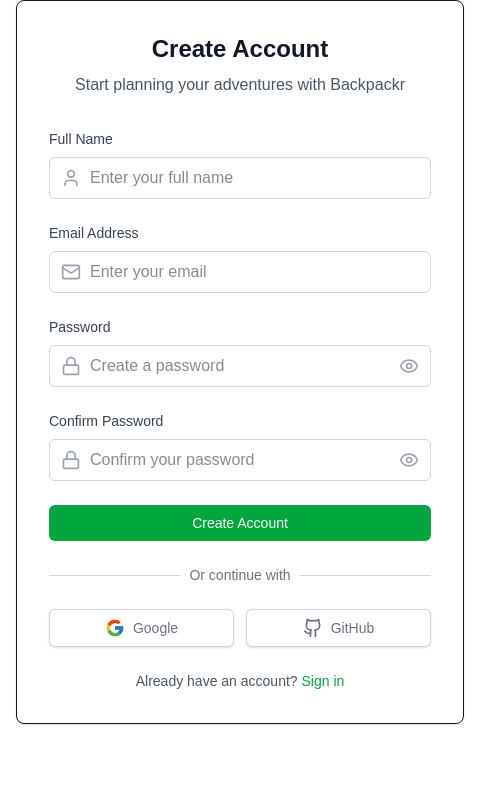
Test: SignupForm › Form Validation › shows error when email is empty
The width and height of the screenshot is (481, 800).
Type "John Doe" into the field labelled "Full Name".
click(240, 178); type("John Doe")  # box [49, 157, 431, 199]
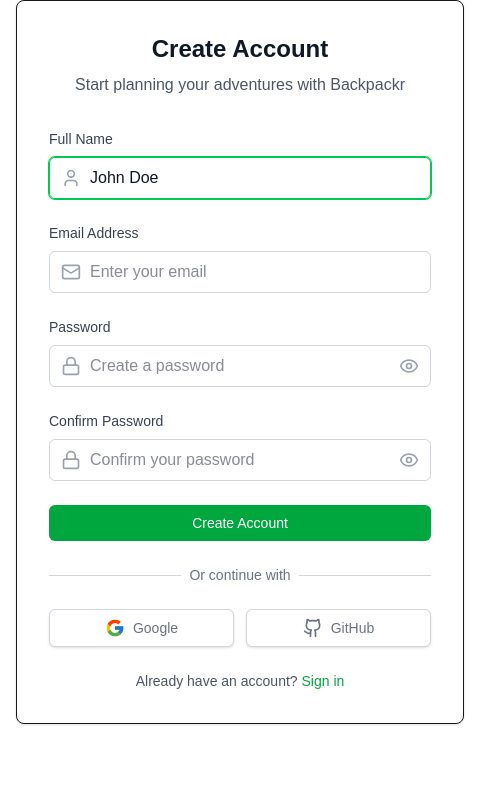
Type "password123" into the password field labelled "Password".
click(240, 366); type("password123")  # box [49, 345, 431, 387]
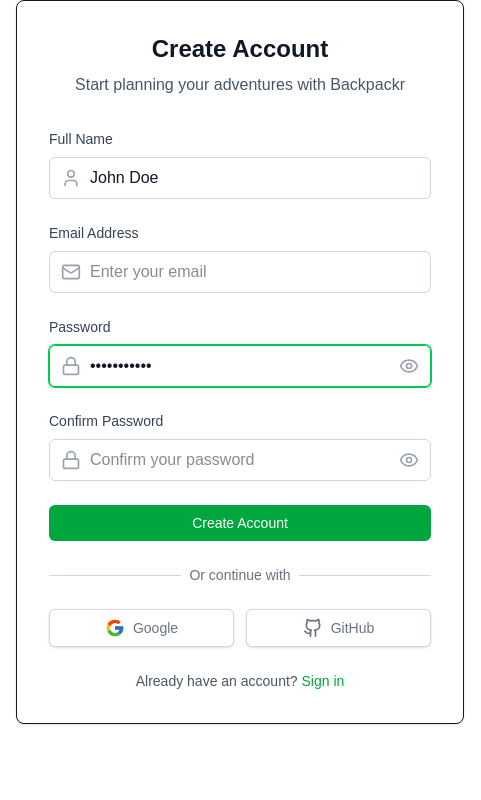
Type "password123" into the password field labelled "Confirm Password".
click(240, 460); type("password123")  # box [49, 439, 431, 481]
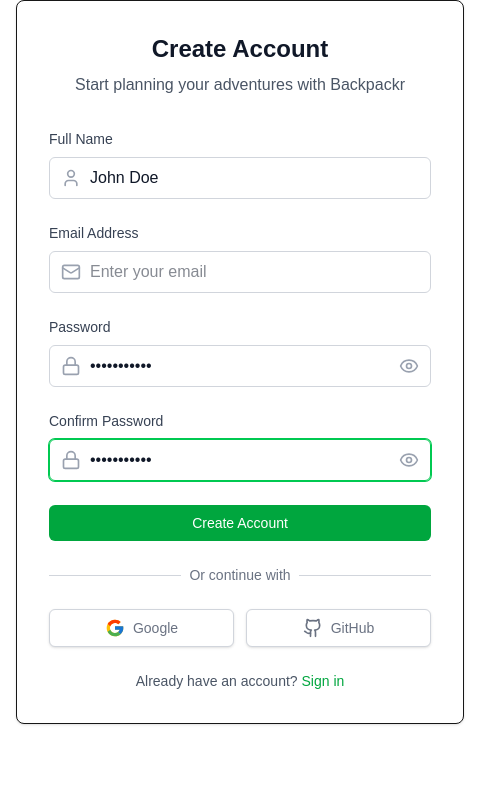
Click the button "Create Account".
click(240, 523)  # box [49, 505, 431, 541]
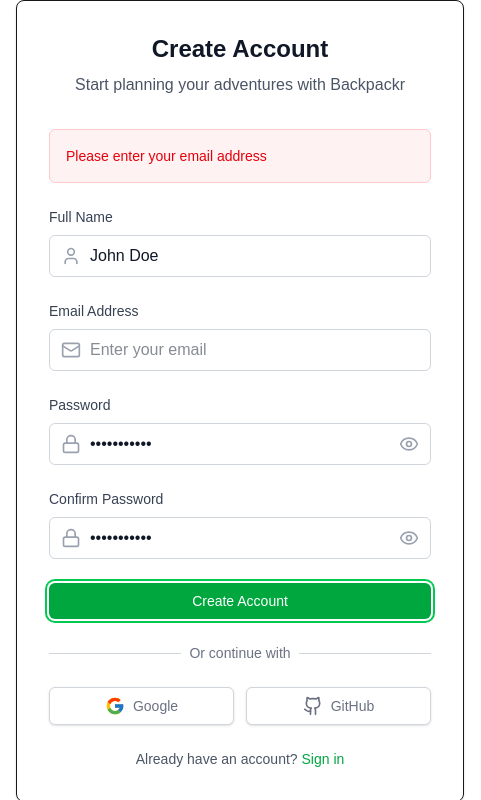
Check: the text "Please enter your email address" is shown, box [66, 148, 267, 164]
